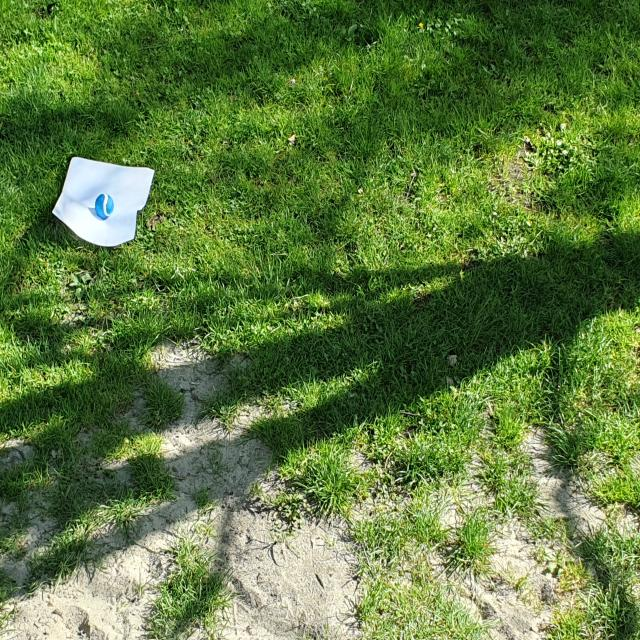blue: (95, 194, 114, 219)
